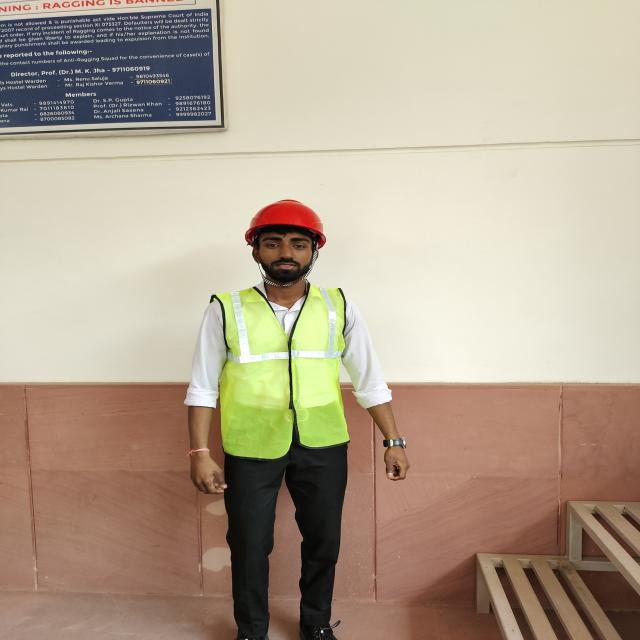safe: (193, 199, 374, 640)
